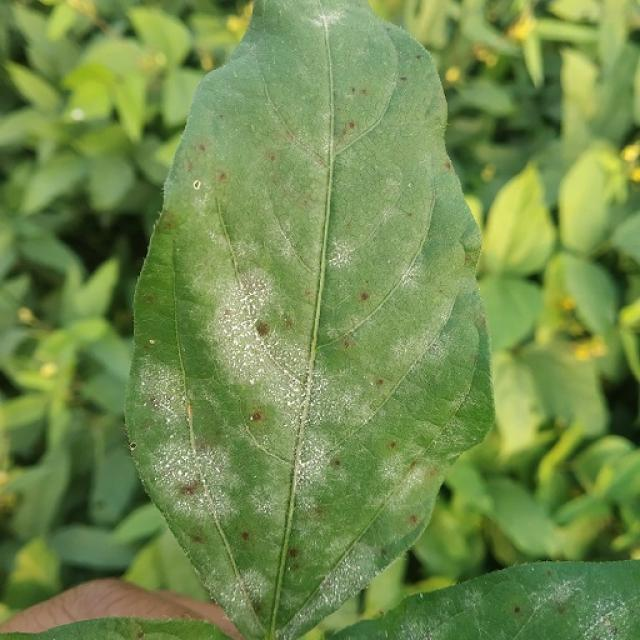Blackgram: (126, 1, 492, 639)
Powdery_Mildew: (207, 263, 419, 477), (320, 174, 462, 404), (308, 83, 429, 290), (147, 200, 246, 439), (216, 274, 302, 388), (223, 447, 311, 558), (396, 315, 478, 425), (218, 271, 286, 386), (302, 354, 376, 443), (147, 406, 214, 501), (384, 458, 440, 516), (232, 567, 278, 622), (572, 598, 628, 638), (210, 581, 256, 628), (300, 582, 353, 621), (328, 240, 356, 267), (315, 10, 343, 27), (181, 482, 199, 496), (195, 441, 214, 454), (554, 601, 568, 615), (179, 610, 193, 622), (341, 338, 354, 350), (251, 601, 262, 615), (602, 618, 614, 630), (283, 318, 294, 330), (314, 505, 326, 516), (142, 294, 154, 304), (191, 534, 203, 544), (408, 460, 418, 472), (330, 458, 341, 468), (611, 625, 621, 635), (288, 548, 298, 558), (360, 292, 369, 302), (241, 531, 250, 541), (218, 172, 227, 182), (388, 441, 397, 450), (376, 378, 384, 387), (193, 180, 201, 189), (268, 153, 276, 162), (513, 606, 521, 614), (198, 144, 206, 152), (135, 634, 145, 640), (130, 442, 137, 450), (348, 121, 355, 129), (418, 591, 424, 600), (546, 569, 553, 576), (360, 88, 367, 95), (148, 339, 155, 345), (400, 76, 407, 82), (378, 610, 384, 617), (416, 55, 423, 60), (351, 87, 356, 94), (287, 565, 292, 571), (51, 637, 60, 640), (408, 183, 412, 188)
